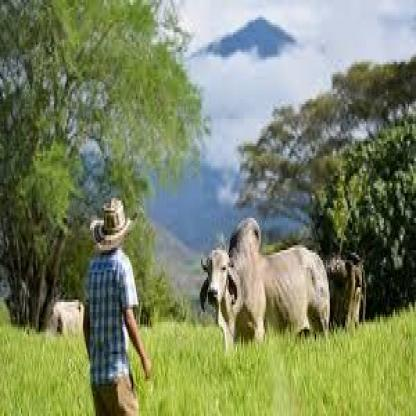cow: (201, 247, 330, 356)
